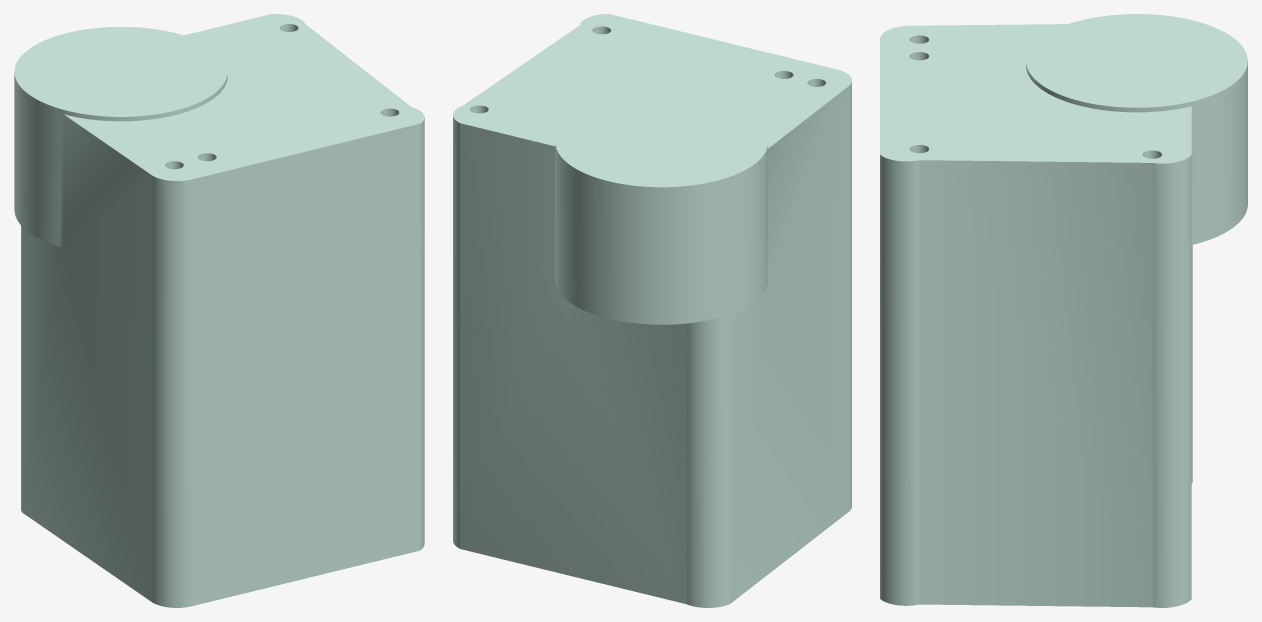
3 views of the same model, side by side, from view 1: azimuth 30°, elevation 25°; view 2: azimuth 150°, elevation 25°; view 3: azimuth 270°, elevation 25° (orthographic). The views are drawn at different scales.
Visible parts, largest first — view 1: Renderer Node; view 2: Renderer Node; view 3: Renderer Node.
Boxes of the visible parts, x1,y1,x2,y2 form: Renderer Node: (14,14,424,607); Renderer Node: (453,14,851,607); Renderer Node: (880,14,1247,607).
Size of the model in its own units: 0.5249 by 0.7578 by 0.5626.
